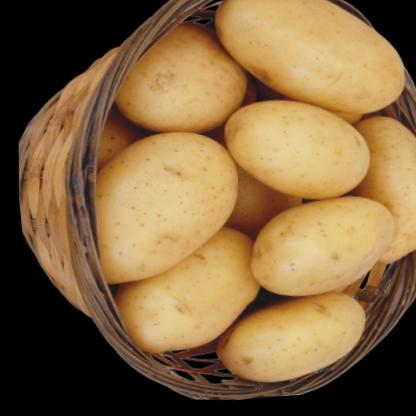potato: (70, 120, 249, 296), (208, 0, 416, 133), (234, 190, 403, 313), (206, 95, 378, 212), (206, 283, 377, 398)
